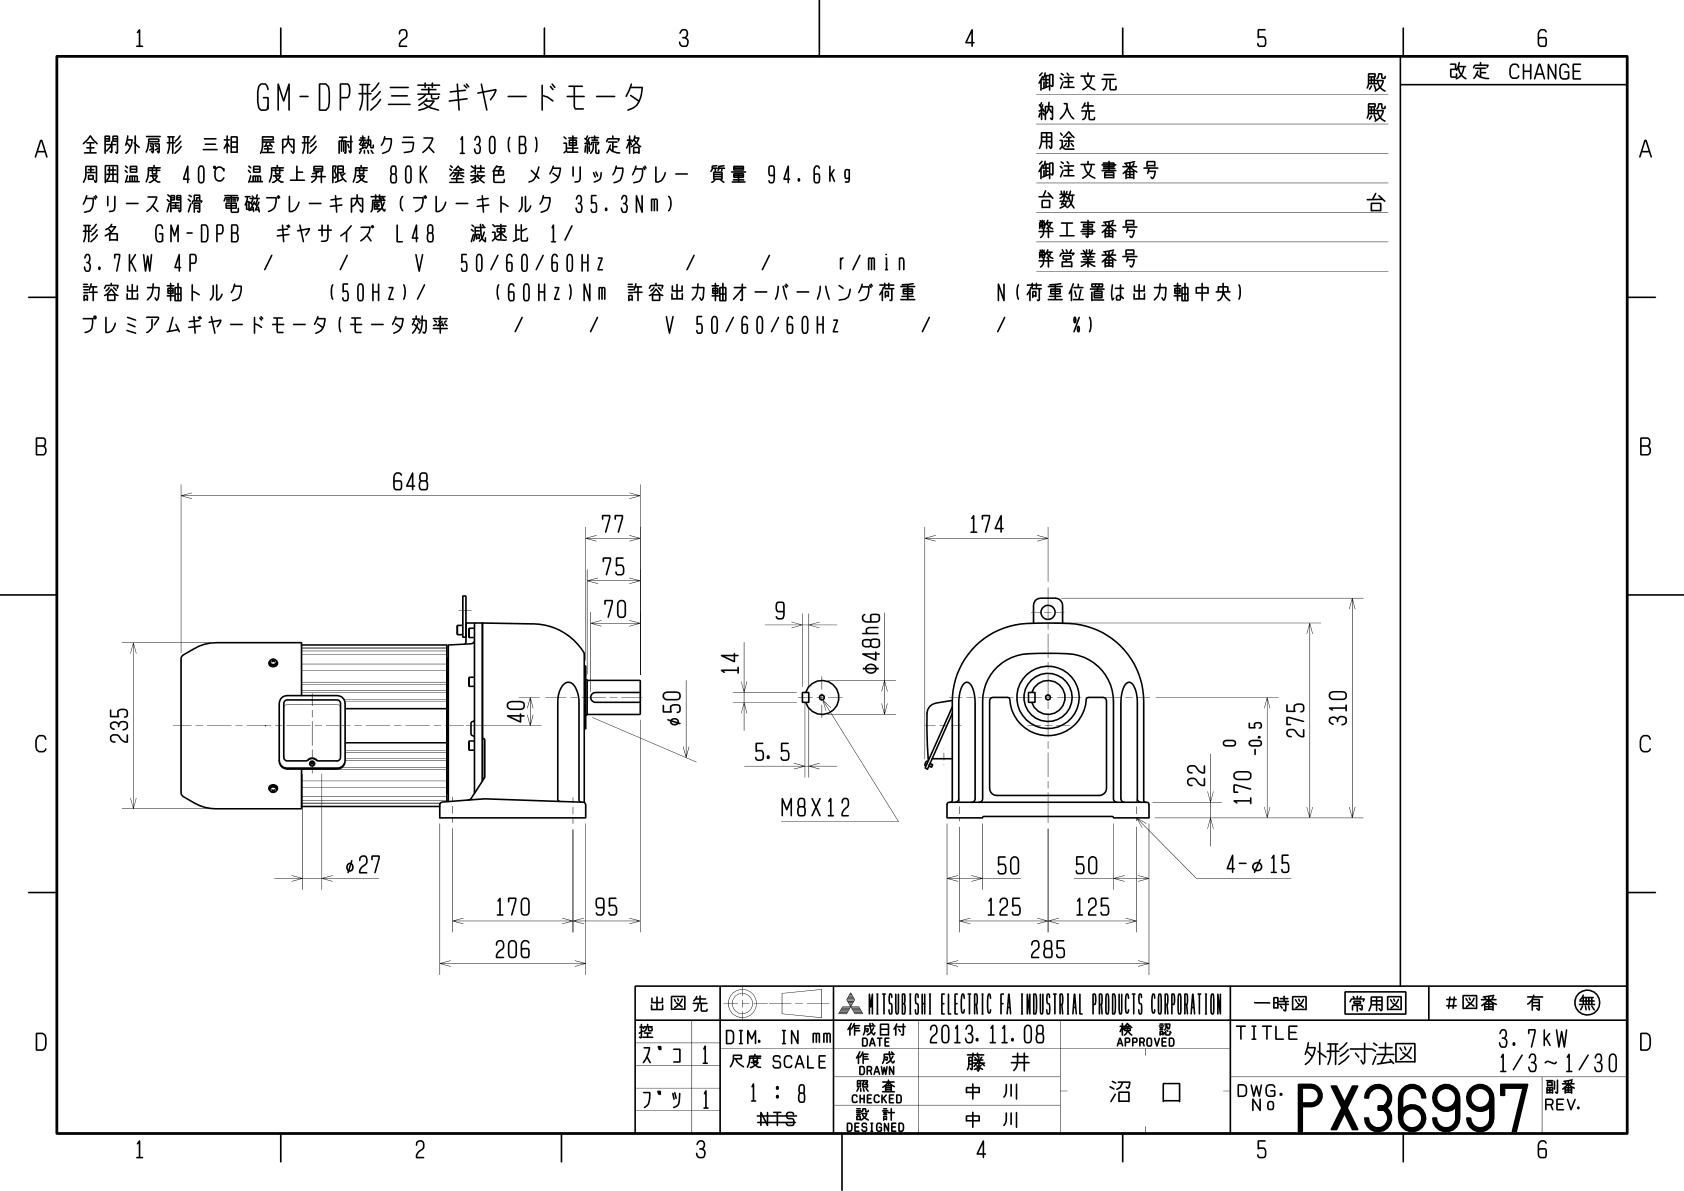GM_D_屋内＿三相_脚: (1, 15, 1669, 1182)
